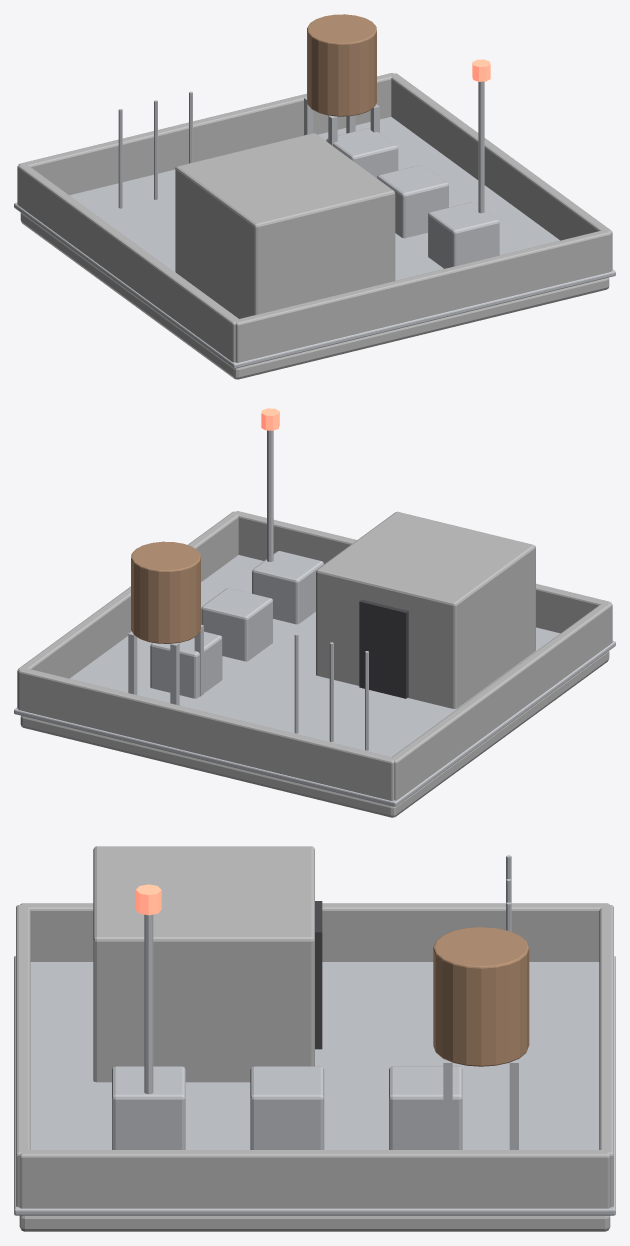
The model's file is roof_3x3_mech_concrete.glb.
The picture shows the model from 3 angles, top to bottom: view 1: azimuth 30°, elevation 25°; view 2: azimuth 150°, elevation 25°; view 3: azimuth 270°, elevation 25°; orthographic projection. The views are drawn at different scales.
Parts seen in each view (by area): view 1: ext_parapet, ext_penthouse, int_slab_edge, ext_ac, int_slab, ext_tank, ext_tank_legs, ext_mast, ext_ant0; view 2: ext_parapet, ext_penthouse, int_slab_edge, ext_ac, int_slab, ext_tank, ext_penthouse_door, ext_tank_legs, ext_mast; view 3: ext_parapet, int_slab_edge, ext_penthouse, ext_ac, ext_tank, int_slab, ext_mast, ext_tank_legs, ext_penthouse_door, ext_beacon.
Boxes of the visible parts, x1,y1,x2,y2 form: ext_parapet: [17, 73, 612, 362]; ext_penthouse: [175, 133, 395, 318]; int_slab_edge: [14, 117, 615, 368]; ext_ac: [326, 127, 499, 268]; int_slab: [20, 213, 609, 379]; ext_tank: [307, 14, 376, 116]; ext_tank_legs: [304, 97, 379, 145]; ext_mast: [478, 81, 484, 213]; ext_ant0: [118, 109, 122, 208]; ext_parapet: [17, 511, 612, 800]; ext_penthouse: [316, 511, 535, 708]; int_slab_edge: [14, 555, 615, 806]; ext_ac: [150, 551, 323, 698]; int_slab: [20, 651, 609, 817]; ext_tank: [131, 541, 200, 643]; ext_penthouse_door: [359, 599, 408, 698]; ext_tank_legs: [128, 624, 203, 705]; ext_mast: [267, 430, 273, 561]; ext_parapet: [16, 903, 613, 1208]; int_slab_edge: [14, 956, 615, 1215]; ext_penthouse: [93, 846, 314, 1082]; ext_ac: [112, 1066, 462, 1149]; ext_tank: [433, 927, 529, 1066]; int_slab: [19, 1215, 610, 1231]; ext_mast: [144, 914, 153, 1094]; ext_tank_legs: [443, 1059, 518, 1149]; ext_penthouse_door: [315, 901, 322, 1049]; ext_beacon: [136, 884, 161, 915].
Bounding box in the file's own units: 3.26 × 1.73 × 3.26.
